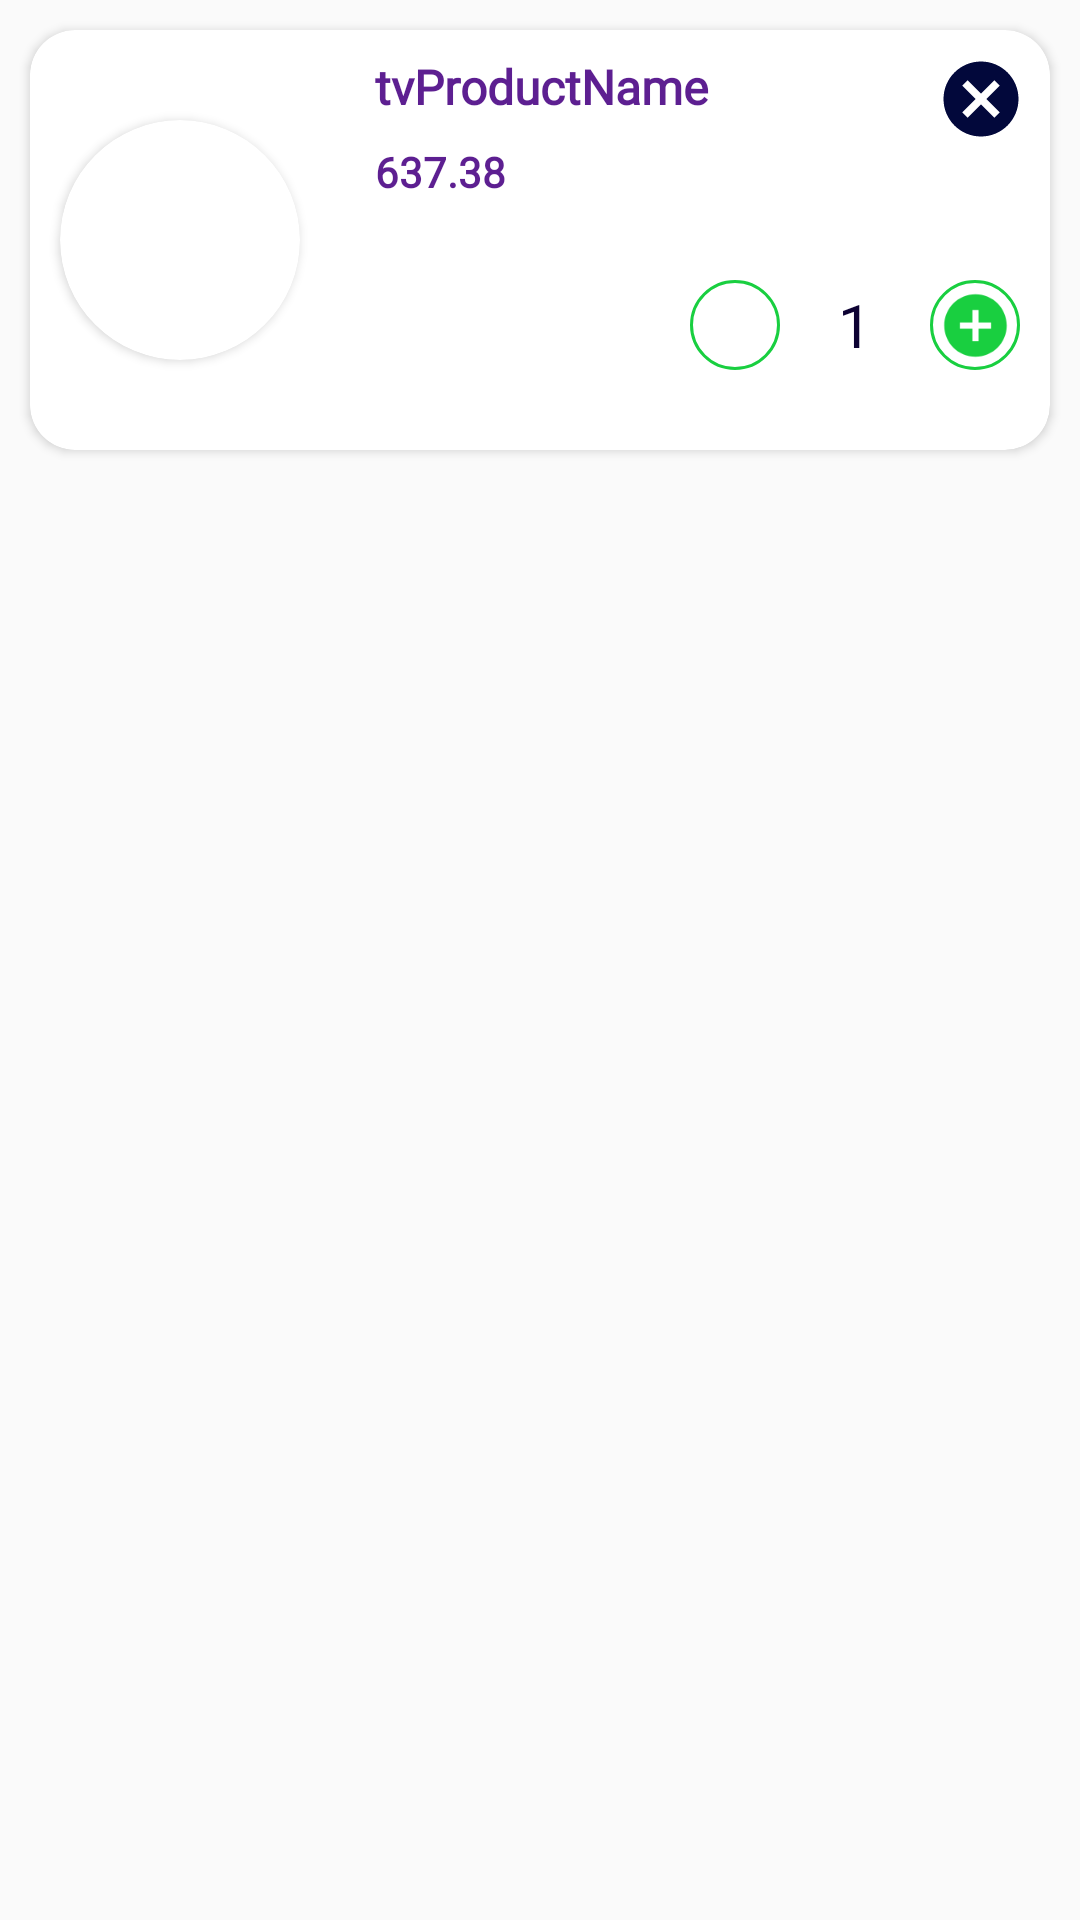

Where to tap for icons on this 1080×1920 app screen, as (x,y):
add circle: (975,325)
cancel: (981,99)
